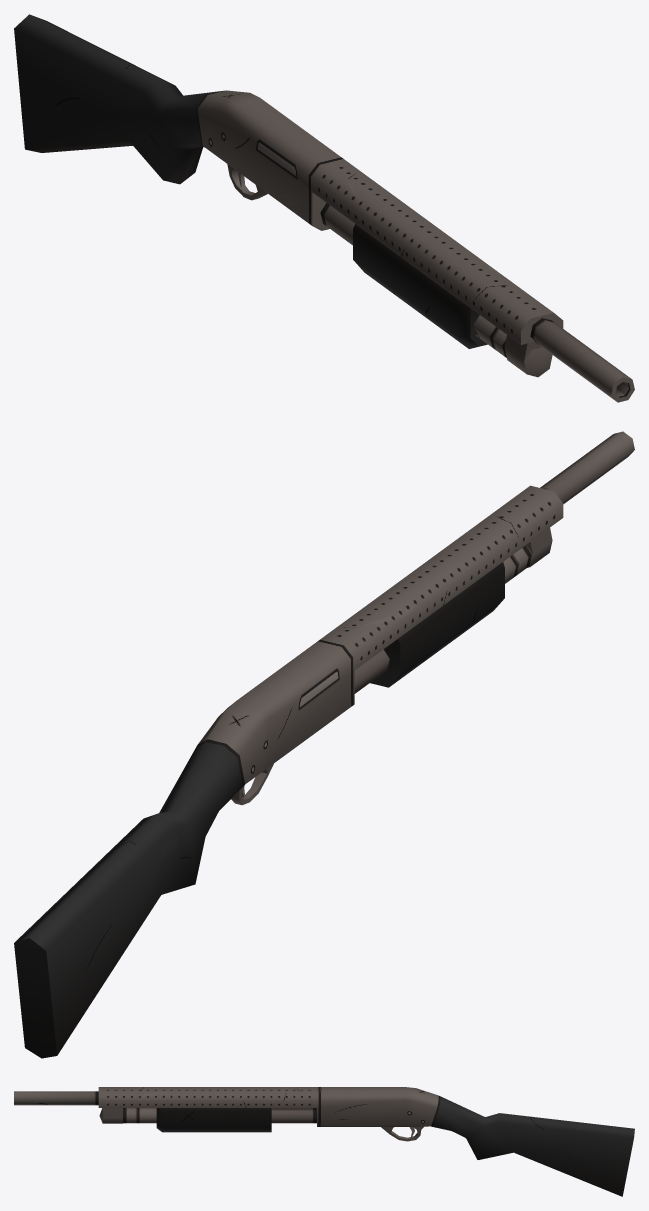
The model's file is mod_wpn_sg01.fbx.
3 renders of one model, top to bottom at view 1: azimuth 30°, elevation 25°; view 2: azimuth 150°, elevation 25°; view 3: azimuth 270°, elevation 25°, orthographic. The views are drawn at different scales.
Visible parts, largest first — view 1: mod_wpn_sg01; view 2: mod_wpn_sg01; view 3: mod_wpn_sg01.
Part boxes in pixels (x1=…): mod_wpn_sg01: x1=14, y1=14, x2=634, y2=402; mod_wpn_sg01: x1=14, y1=431, x2=634, y2=1058; mod_wpn_sg01: x1=14, y1=1087, x2=634, y2=1196.
Bounding box in the file's own units: 4.7 × 19.22 × 102.
